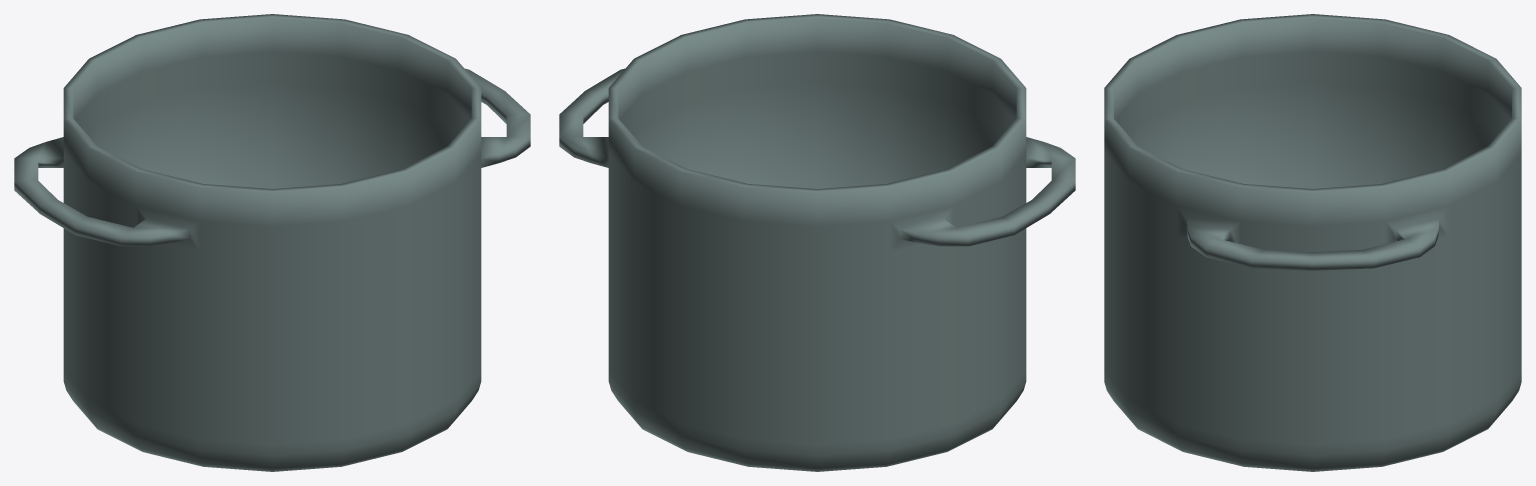
The model's file is Pot.FBX.
The picture shows the model from 3 angles, left to right: view 1: azimuth 30°, elevation 25°; view 2: azimuth 150°, elevation 25°; view 3: azimuth 270°, elevation 25°; orthographic projection.
Visible parts, largest first — view 1: Cylinder001; view 2: Cylinder001; view 3: Cylinder001.
Boxes of the visible parts, x1=… form: Cylinder001: x1=14, y1=14, x2=530, y2=471; Cylinder001: x1=559, y1=14, x2=1075, y2=471; Cylinder001: x1=1104, y1=14, x2=1521, y2=471.
Size of the model in its own units: 123 by 95.73 by 71.57.
1 material, 1 textured.
